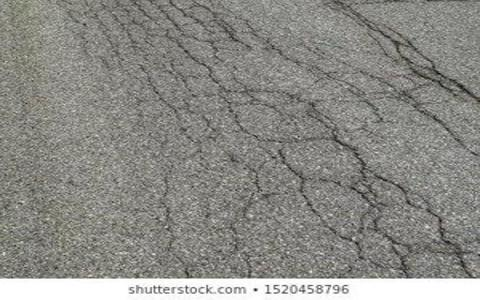patchy roads: (107, 3, 438, 246)
